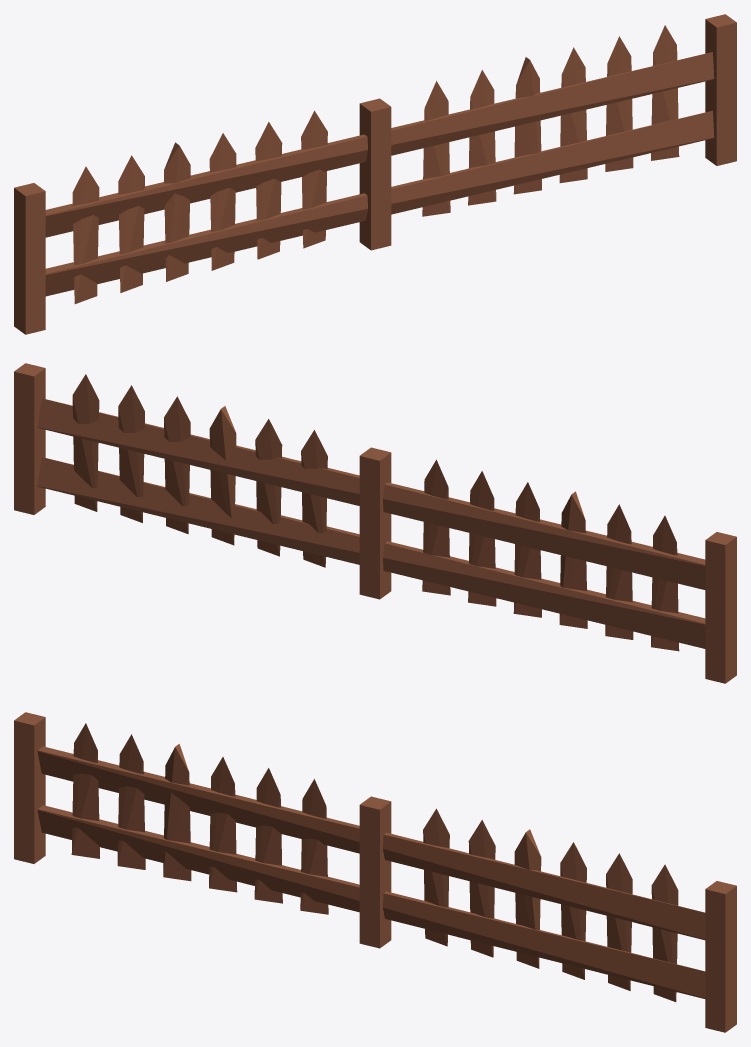
Rendered from Fence2.lod1.glb.
3 views of the same model, one above another, from view 1: azimuth 30°, elevation 25°; view 2: azimuth 150°, elevation 25°; view 3: azimuth 330°, elevation 25° (orthographic).
Parts seen in each view (by area): view 1: Fence2; view 2: Fence2; view 3: Fence2.
Part boxes in pixels (left/top/right/bottom): Fence2: left=14, top=14, right=736, bottom=334; Fence2: left=14, top=363, right=736, bottom=683; Fence2: left=14, top=712, right=736, bottom=1032.
Bounding box in the file's own units: 5.89 × 1.17 × 0.1655.
